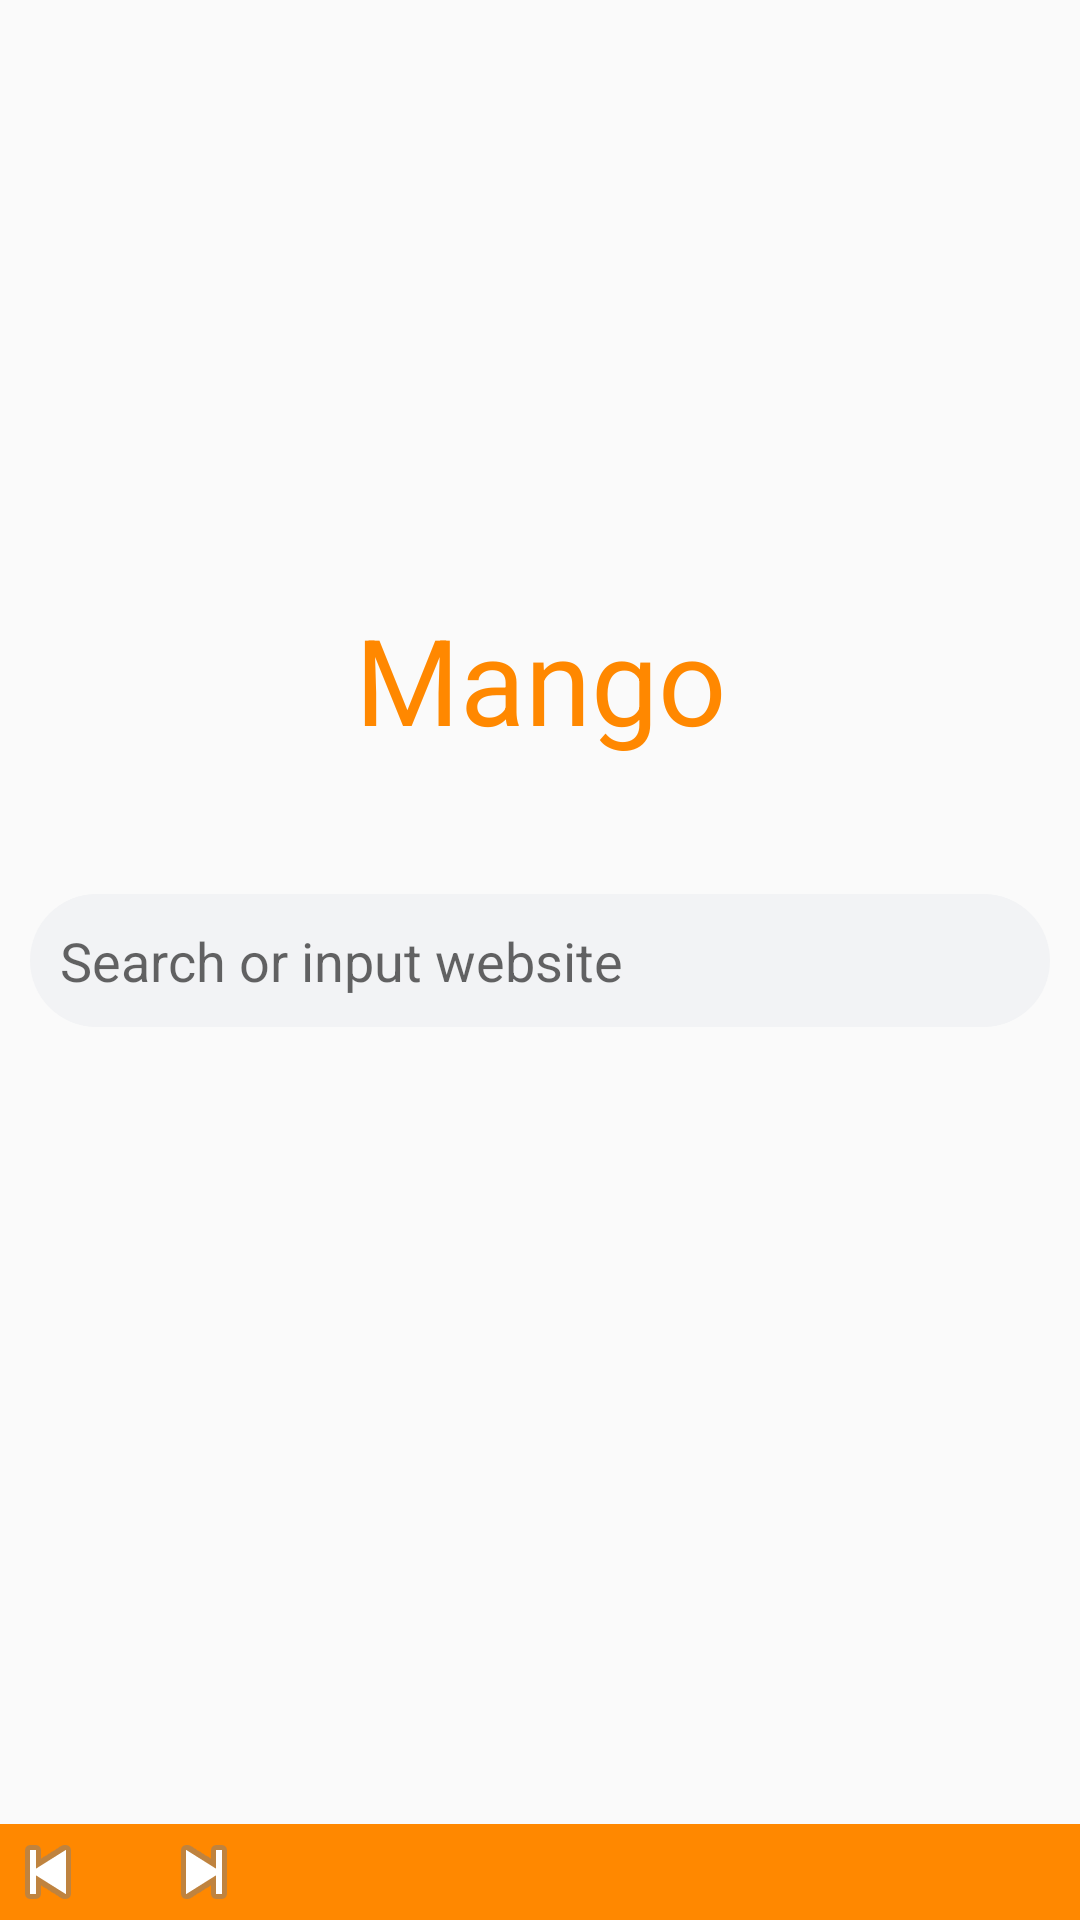

Named icons in this screenshot (1080x1920) and their bounding boxes, Rect(x1, y1, x2, y2):
next: Rect(181, 1845, 227, 1899)
previous: Rect(25, 1845, 71, 1899)
